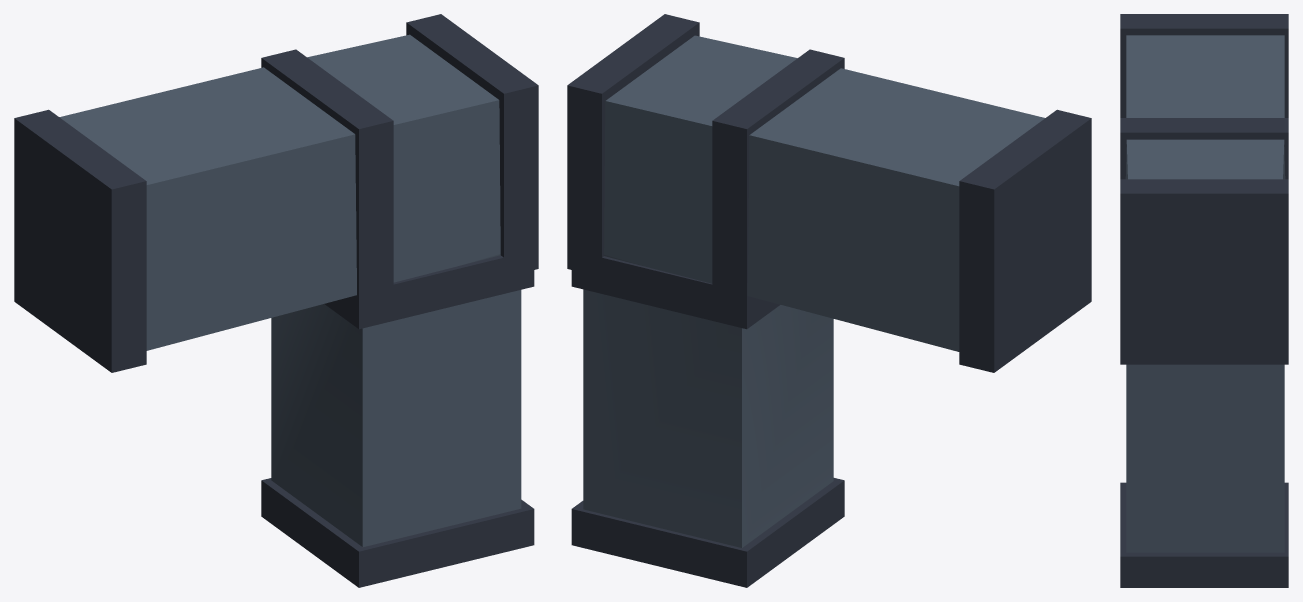
The model's file is Vent_2_A_6.glb.
3 views of the same model, side by side, from view 1: azimuth 30°, elevation 25°; view 2: azimuth 150°, elevation 25°; view 3: azimuth 270°, elevation 25° (orthographic). The views are drawn at different scales.
Visible parts, largest first — view 1: Vent_2_A_6; view 2: Vent_2_A_6; view 3: Vent_2_A_6.
Part boxes in pixels (x1,y1,x2,y2): Vent_2_A_6: (14,14,538,587); Vent_2_A_6: (567,14,1091,587); Vent_2_A_6: (1120,14,1288,587).
Bounding box in the file's own units: 0.9002 × 0.9244 × 0.3562.
Materials: 1 (1 with a texture image).
